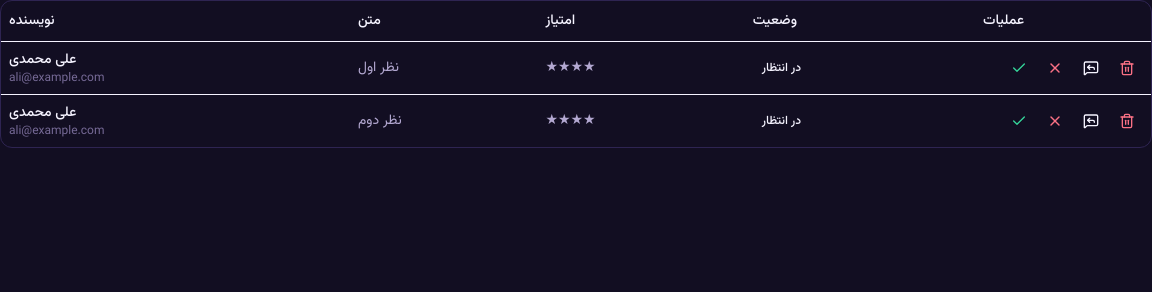
Test case: CommentModerationTable › reply toggle › shows reply form only for clicked comment when multiple exist
Click the button named "پاسخ" in the row of "نظر دوم" at (1091, 120), box left=1075, top=104, right=1107, bottom=136
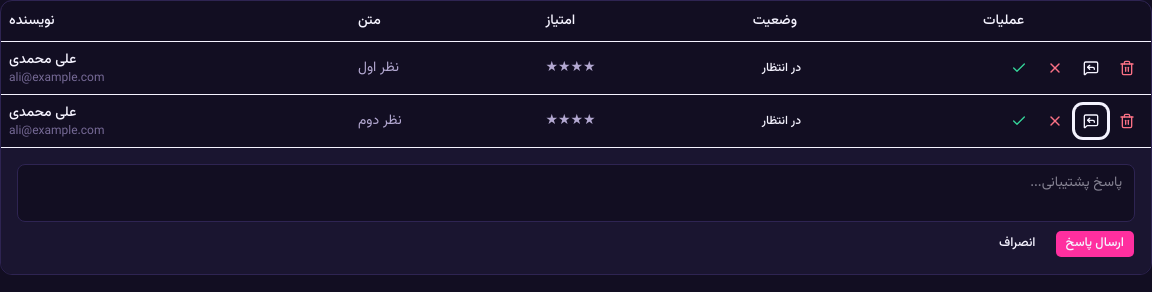
Check: the number of text boxes with placeholder "پاسخ پشتیبانی..." is 1, box left=17, top=164, right=1135, bottom=222
